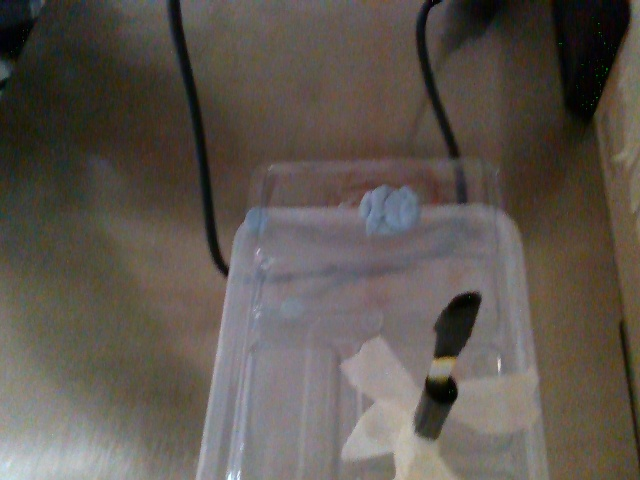test_strip: (426, 292, 482, 382)
